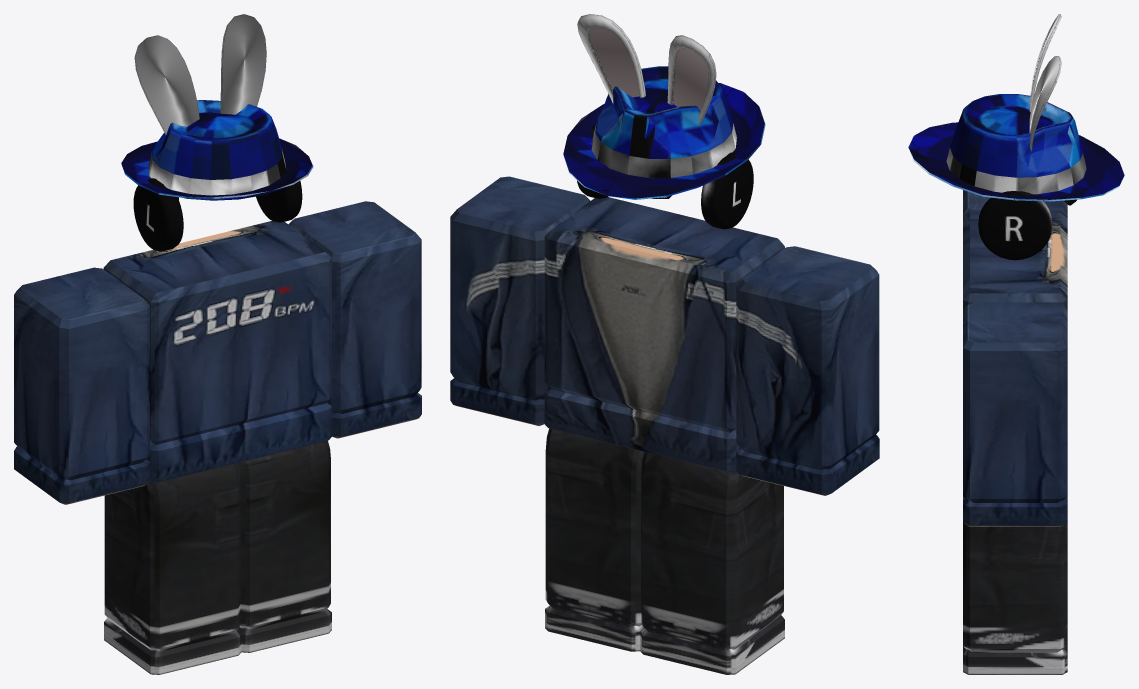
The model's file is R15 Headless.obj.
3 views of the same model, side by side, from view 1: azimuth 30°, elevation 25°; view 2: azimuth 150°, elevation 25°; view 3: azimuth 270°, elevation 25° (orthographic). The views are drawn at different scales.
Parts seen in each view (by area): view 1: R15Headless7, R15Headless11, Handle3, R15Headless8, R15Headless10, R15Headless6, R15Headless13, R15Headless4, Handle4, R15Headless2, R15Headless3, R15Headless12 (+5 smaller); view 2: R15Headless7, R15Headless11, Handle3, R15Headless10, R15Headless8, R15Headless6, R15Headless13, R15Headless4, R15Headless2, R15Headless3, R15Headless12, Handle4 (+5 smaller); view 3: Handle3, R15Headless10, R15Headless4, R15Headless12, R15Headless7, R15Headless2, Handle1, R15Headless14, R15Headless5, Handle4, R15Headless11.
Boxes of the visible parts, bbox=[...] form: R15Headless7: bbox=[103, 221, 331, 444]; R15Headless11: bbox=[14, 267, 149, 409]; Handle3: bbox=[121, 100, 313, 200]; R15Headless8: bbox=[104, 529, 240, 651]; R15Headless10: bbox=[288, 201, 421, 342]; R15Headless6: bbox=[104, 463, 240, 562]; R15Headless13: bbox=[14, 375, 149, 480]; R15Headless4: bbox=[240, 518, 330, 629]; Handle4: bbox=[134, 14, 266, 134]; R15Headless2: bbox=[237, 440, 330, 540]; R15Headless3: bbox=[146, 402, 331, 482]; R15Headless12: bbox=[327, 320, 421, 413]; R15Headless7: bbox=[544, 197, 784, 432]; R15Headless11: bbox=[736, 246, 879, 395]; Handle3: bbox=[563, 66, 765, 199]; R15Headless10: bbox=[450, 176, 590, 325]; R15Headless8: bbox=[641, 521, 783, 650]; R15Headless6: bbox=[641, 452, 783, 557]; R15Headless13: bbox=[736, 360, 879, 470]; R15Headless4: bbox=[545, 510, 641, 626]; R15Headless2: bbox=[545, 428, 644, 533]; R15Headless3: bbox=[544, 388, 740, 472]; R15Headless12: bbox=[450, 301, 549, 400]; Handle4: bbox=[577, 14, 716, 125]; Handle3: bbox=[908, 94, 1124, 201]; R15Headless10: bbox=[963, 302, 1067, 431]; R15Headless4: bbox=[963, 560, 1067, 652]; R15Headless12: bbox=[963, 428, 1067, 502]; R15Headless7: bbox=[963, 210, 1067, 309]; R15Headless2: bbox=[963, 523, 1067, 563]; Handle1: bbox=[978, 191, 1052, 260]; R15Headless14: bbox=[963, 496, 1067, 526]; R15Headless5: bbox=[963, 646, 1067, 674]; Handle4: bbox=[1029, 14, 1061, 151]; R15Headless11: bbox=[963, 190, 1067, 216].
Size of what is drawn, in the model's own units: 4 by 6.26 by 2.07.
Materials: 5 (5 with a texture image).
